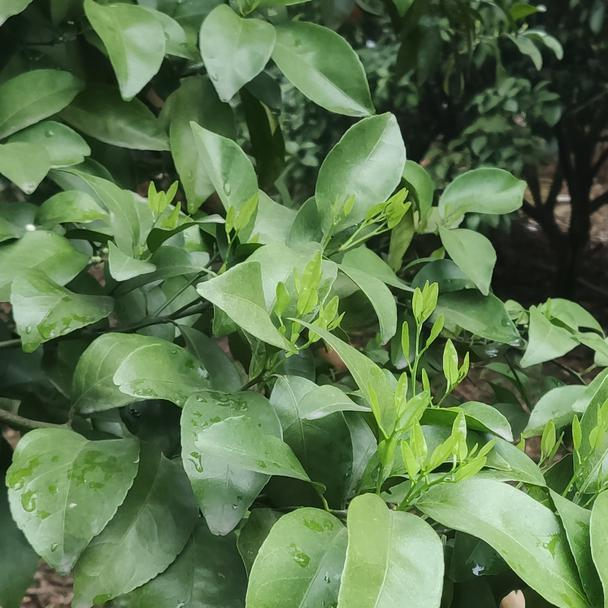shoot: (410, 426, 492, 506), (281, 249, 343, 346), (371, 381, 420, 489), (398, 289, 446, 387), (341, 189, 413, 247), (434, 346, 477, 402)
